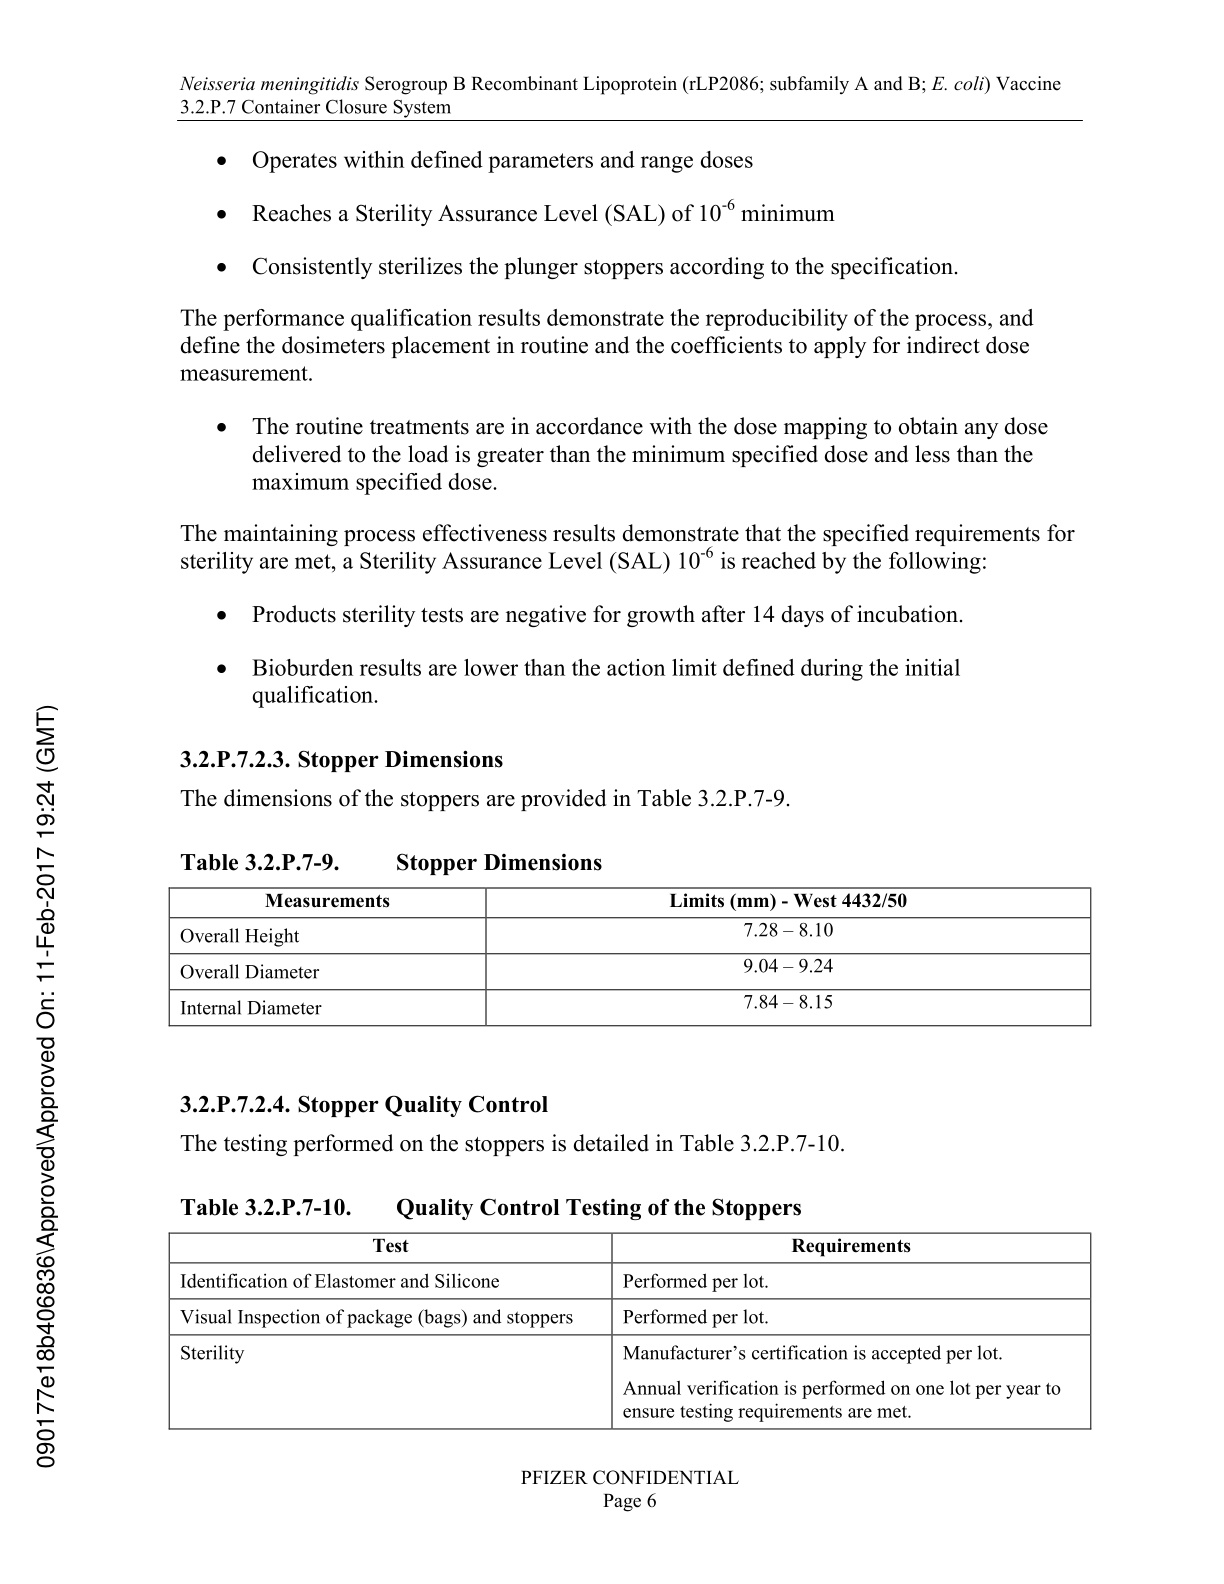full_lined: (167, 1230, 1092, 1430), (167, 886, 1092, 1027)
